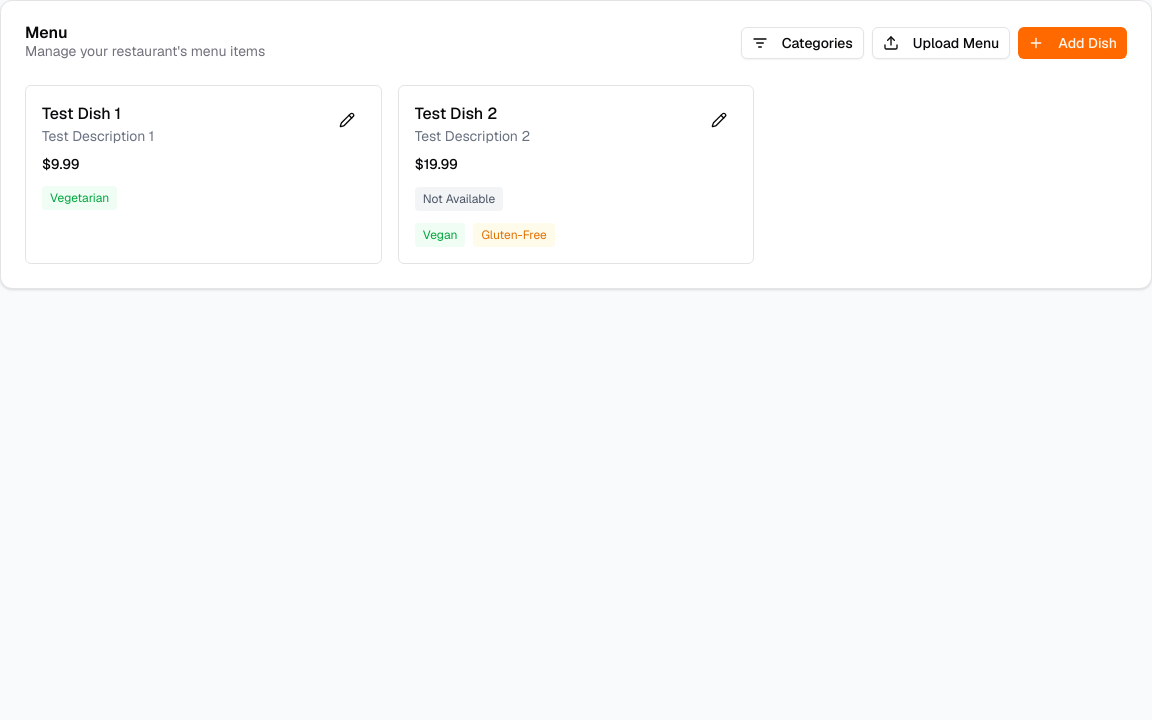
Test case: Menu Component › opens dish dialog when clicking add dish button
Click the button "Add Dish": coordinates (1073, 43) [1018,27,1127,59]
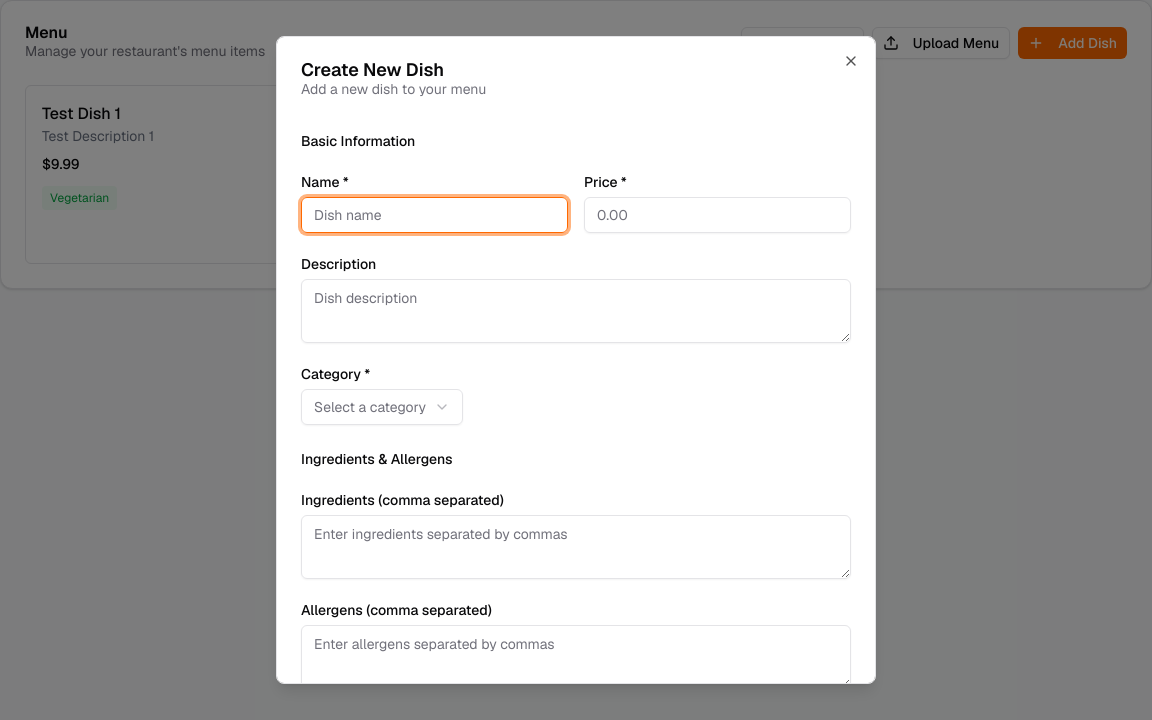
expect the dialog is shown: met, box [276,36,876,684]
